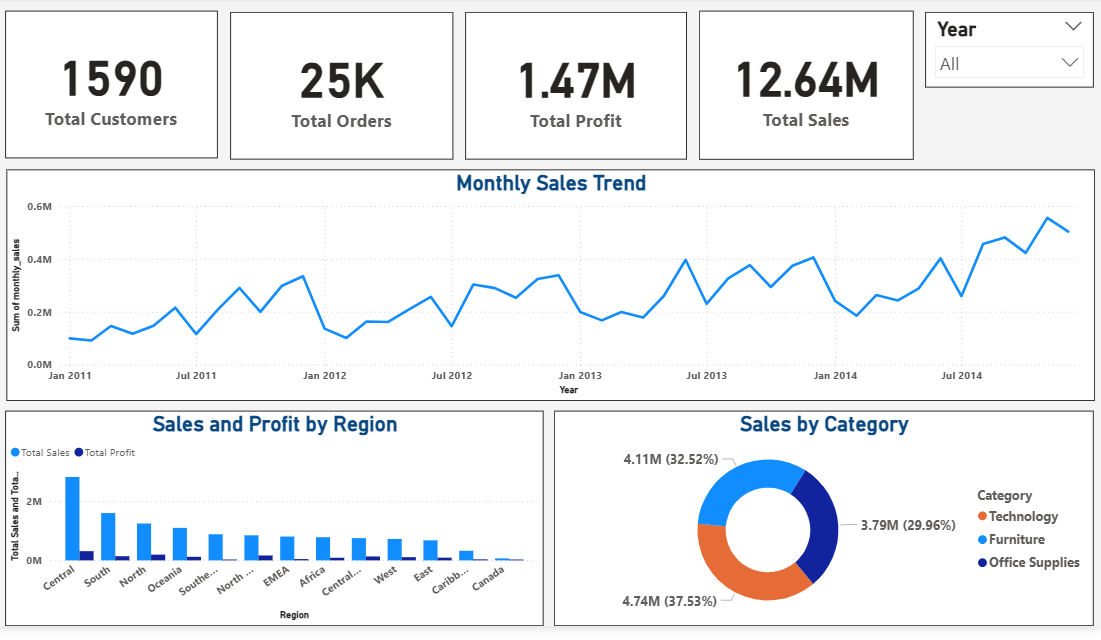

The page's visual inventory and layout, read from the dashboard file:
{"tool":"powerbi","page":{"name":"Executive Summary","canvas":[1280,720],"ordinal":0},"visuals":[{"type":"card","fields":{"Values":["superstore_pipe.Profit Margin %"]},"box":[824,18.6,243.2,168.8],"z":0},{"type":"card","fields":{"Values":["superstore_pipe.Total Orders"]},"box":[25.7,17.2,254.6,168.8],"z":1000},{"type":"card","fields":{"Values":["superstore_pipe.Total Profit"]},"box":[559.3,18.6,253.2,168.8],"z":2000},{"type":"card","fields":{"Values":["superstore_pipe.Total Sales"]},"box":[297.5,15.7,244.6,170.2],"z":3000},{"type":"slicer","fields":{"Values":["superstore_pipe.Year"]},"box":[1077.2,17.8,193.5,104.3],"z":4000},{"type":"clusteredColumnChart","title":"Sales and Profit by Region","fields":{"Y":["superstore_pipe.Total Profit"],"Category":["superstore_pipe.Region"]},"box":[24.1,473,616.1,246.4],"z":5000},{"type":"donutChart","title":" Sales by Category","fields":{"Category":["superstore_pipe.Category"],"Y":["superstore_pipe.Total Sales"]},"box":[652.9,473,617.5,246.4],"z":6000},{"type":"lineChart","title":"Monthly Sales Trend","fields":{"Y":["Sum(monthly_trend.monthly_sales)"],"Category":["monthly_trend.Month_Year.Variation.Date Hierarchy.Year","monthly_trend.Month_Year.Variation.Date Hierarchy.Quarter","monthly_trend.Month_Year.Variation.Date Hierarchy.Month","monthly_trend.Month_Year.Variation.Date Hierarchy.Day"]},"box":[25,197.6,1245.5,264.4],"z":7000}]}

Visuals, with their boxes in screenshot pixels (x1, y1, x2, y2):
card - superstore_pipe.Profit Margin %: 699:8:913:156
card - superstore_pipe.Total Orders: 0:7:221:155
card - superstore_pipe.Total Profit: 466:8:689:156
card - superstore_pipe.Total Sales: 236:5:451:155
slicer - superstore_pipe.Year: 922:7:1092:99
"Sales and Profit by Region" clusteredColumnChart: 0:407:537:624
" Sales by Category" donutChart: 548:407:1091:624
"Monthly Sales Trend" lineChart: 0:165:1092:398
